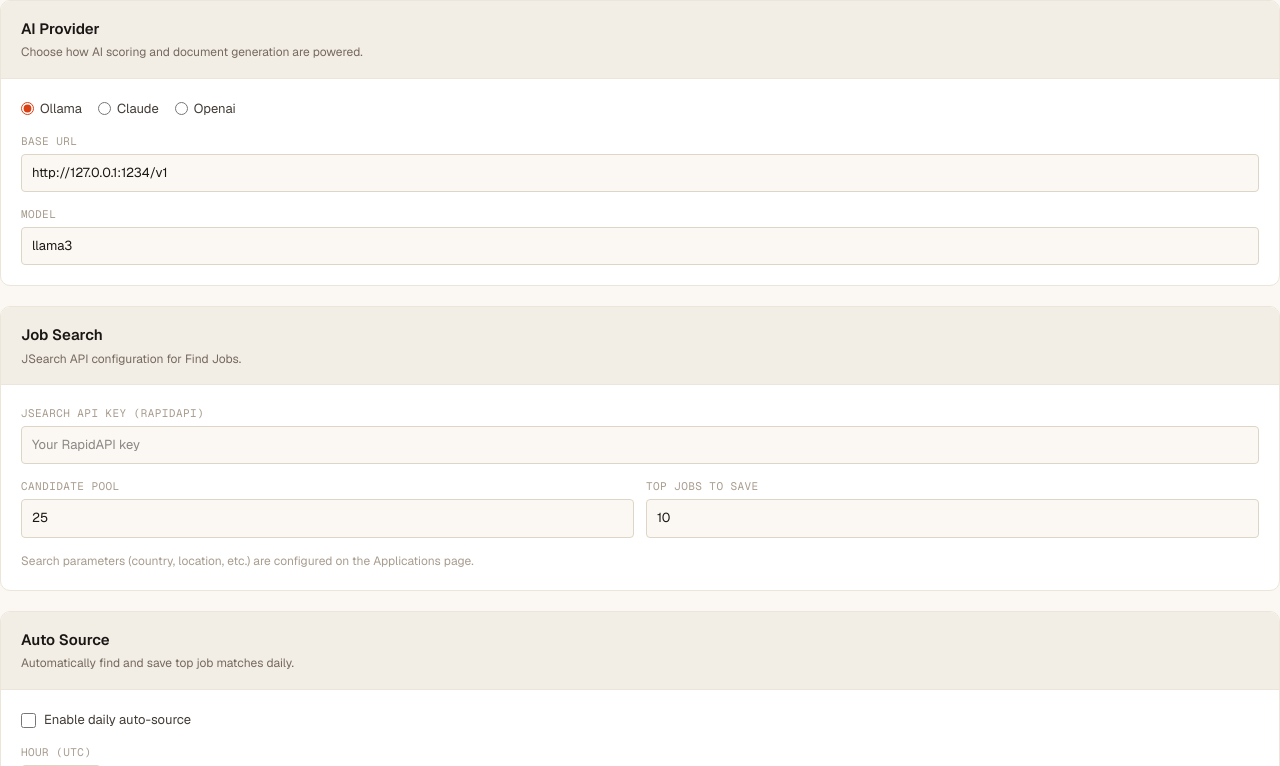
Test case: SettingsForm › switches to Claude key field when claude radio is clicked
This screenshot has width=1280, height=766.
What coordinates should you click on to do the following:
click the radio button labelled "Claude"
I would click on:
 (104, 109)
Its box is [98,102,111,115].
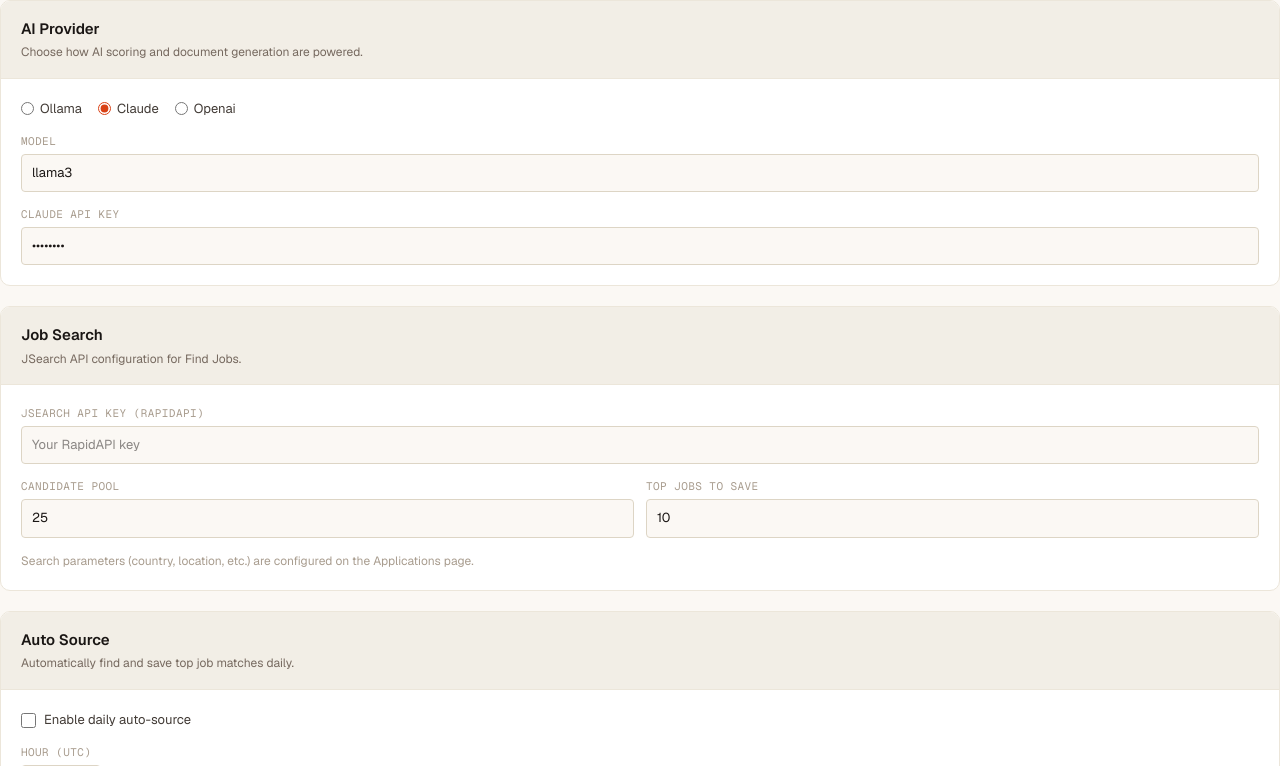
Check: the password field with placeholder "sk-ant-…" is shown, box [21,227,1259,265]
